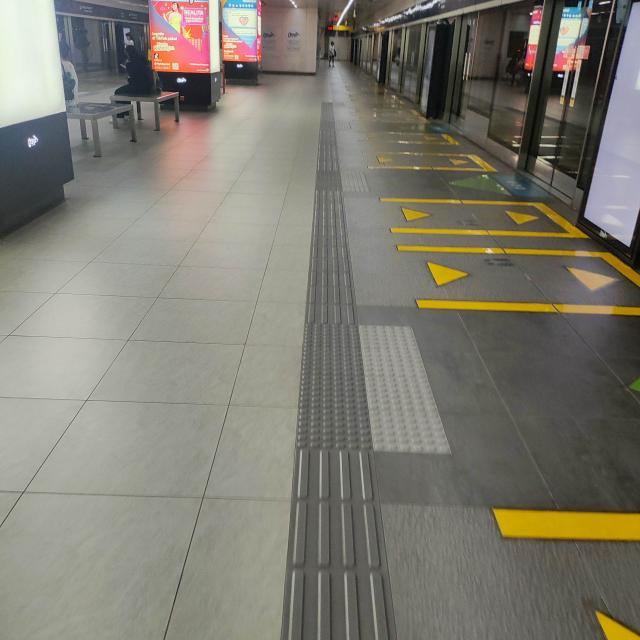lurus: (292, 72, 379, 640)
